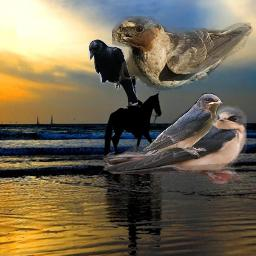Crow: (88, 39, 138, 107)
Swallow: (103, 105, 247, 184), (112, 16, 253, 92), (142, 93, 223, 159)
